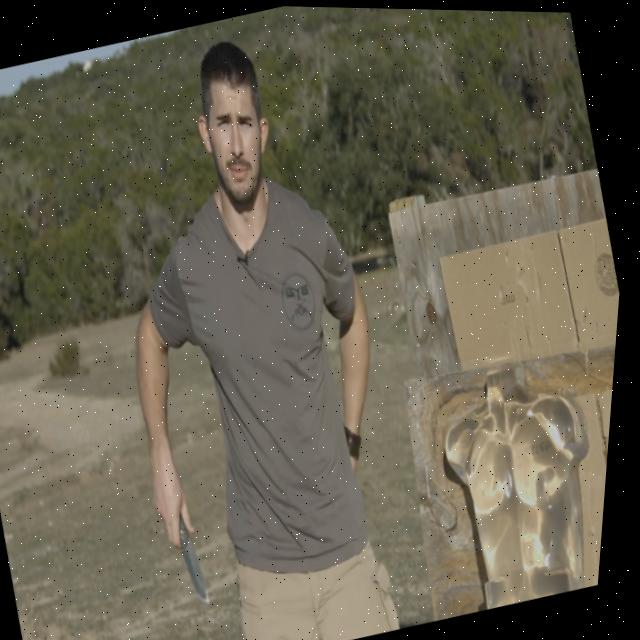knife: (178, 517, 225, 608)
